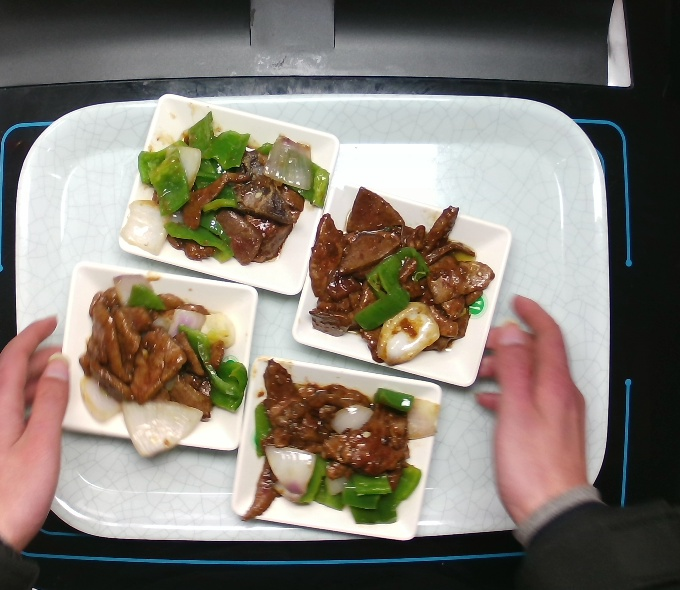wcq-ZhuGan: (238, 353, 450, 546), (299, 183, 502, 368), (121, 104, 337, 276), (75, 266, 257, 459)
